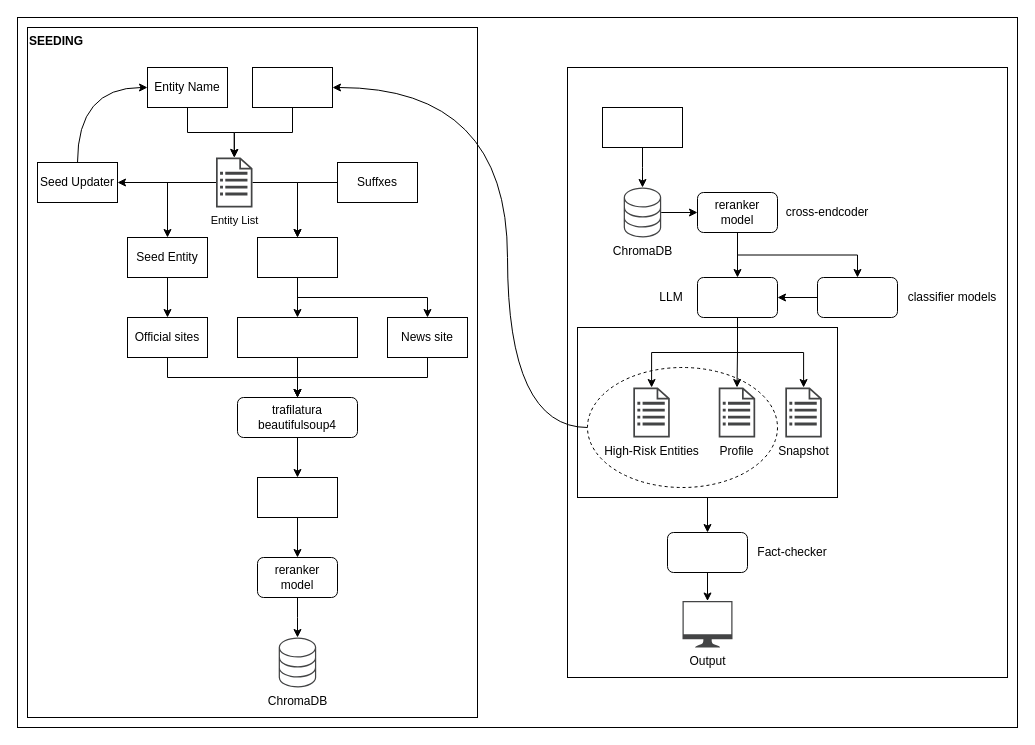
The diagram is 1035 pixels wide and 745 high, and some of its shapes have lost their labels. Each missing label, with the box of its shape:
CommonCrawl (archive): (236, 316, 358, 358)
Entity Candidate: (252, 66, 332, 108)
Extracted Contents: (256, 476, 338, 518)
NER & REL models: (816, 276, 898, 318)
NLI model: (666, 532, 748, 572)
ollama: (696, 276, 778, 318)
Seed Query: (256, 236, 338, 278)
User Query: (602, 106, 682, 148)
USER-END: (566, 66, 1008, 678)
